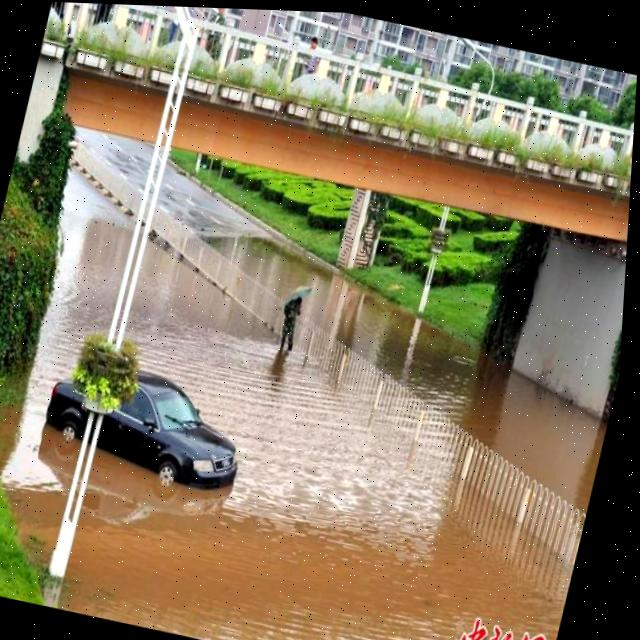civilian: (270, 279, 312, 356)
